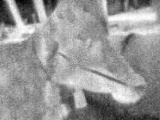eye: (71, 30, 87, 47)
